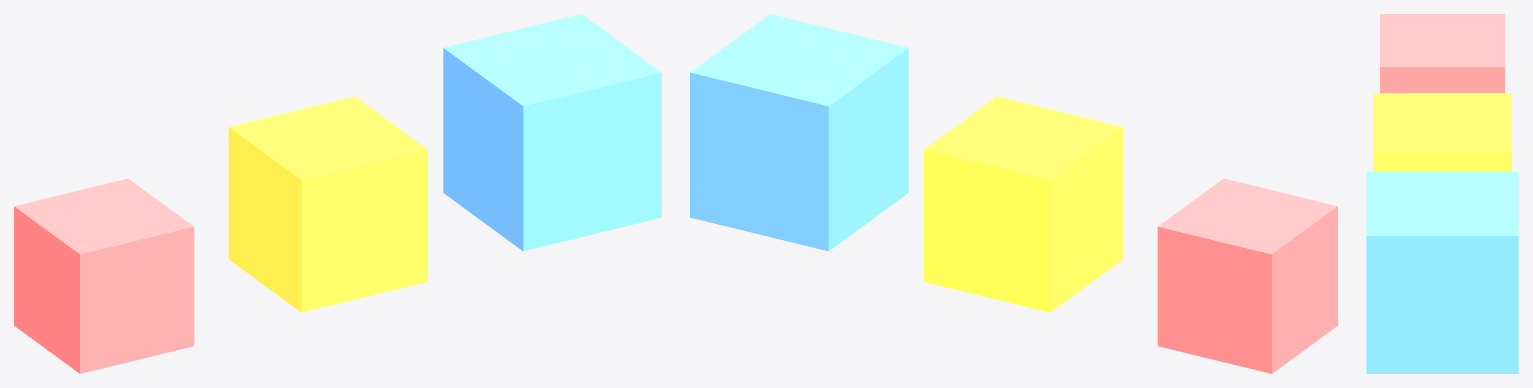
The model's file is counting-blocks.glb.
The picture shows the model from 3 angles, left to right: view 1: azimuth 30°, elevation 25°; view 2: azimuth 150°, elevation 25°; view 3: azimuth 270°, elevation 25°; orthographic projection. The views are drawn at different scales.
Visible parts, largest first — view 1: Block_Three, Block_Two, Block_One; view 2: Block_Three, Block_Two, Block_One; view 3: Block_Three, Block_Two, Block_One.
Boxes of the visible parts, x1=… form: Block_Three: x1=443, y1=14, x2=661, y2=251; Block_Two: x1=228, y1=96, x2=427, y2=312; Block_One: x1=14, y1=178, x2=194, y2=373; Block_Three: x1=690, y1=14, x2=908, y2=251; Block_Two: x1=924, y1=96, x2=1123, y2=312; Block_One: x1=1157, y1=178, x2=1337, y2=373; Block_Three: x1=1366, y1=171, x2=1518, y2=373; Block_Two: x1=1373, y1=93, x2=1511, y2=171; Block_One: x1=1380, y1=14, x2=1504, y2=92.
Bounding box in the file's own units: 2.82 × 0.78 × 0.68.
